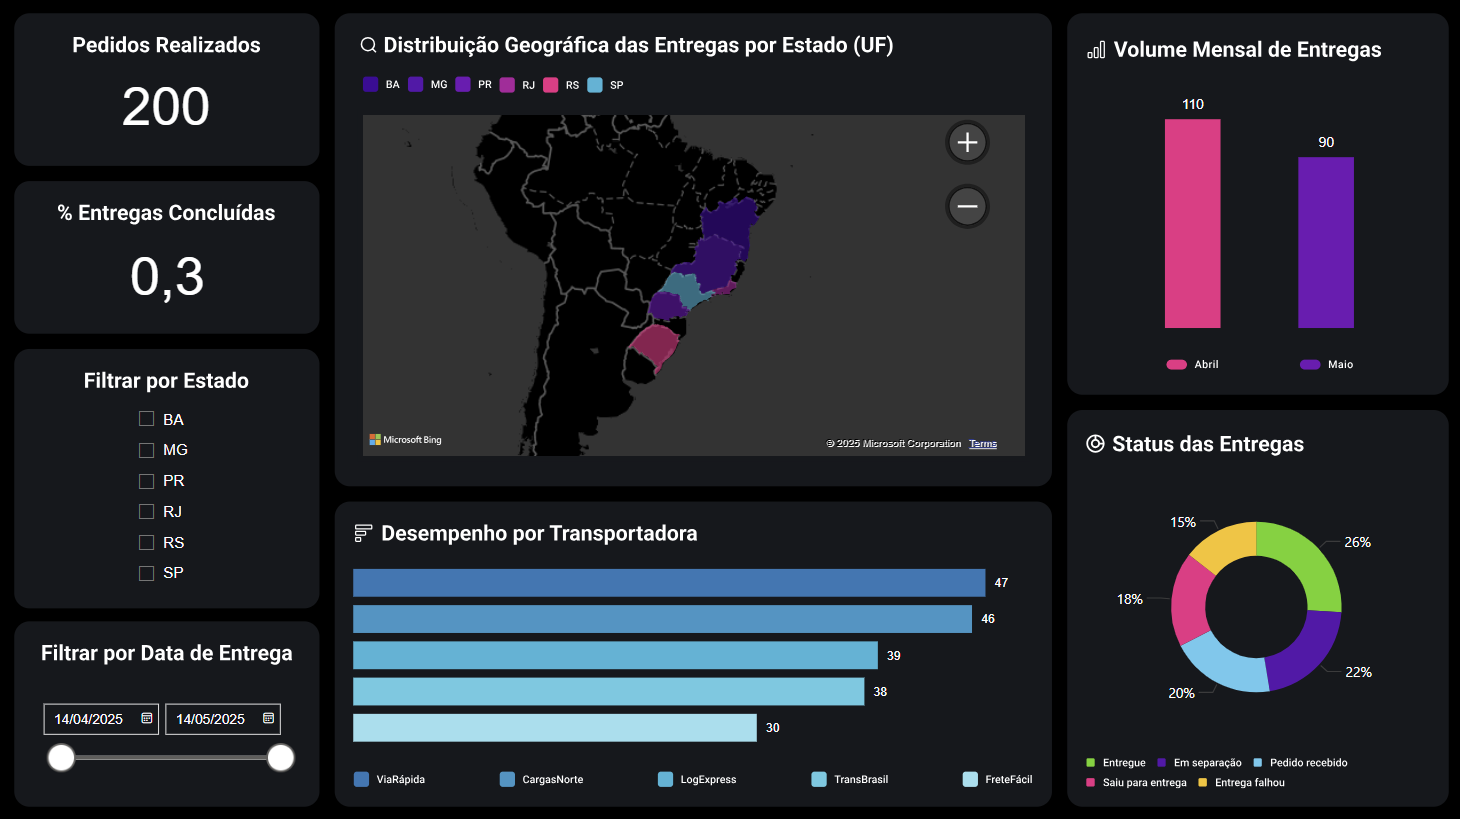

This screenshot's page, from the dashboard's own definition file:
{"tool":"powerbi","page":{"name":"Página 1","canvas":[1280,720],"ordinal":0},"visuals":[{"type":"filledMap","fields":{"Category":["trackmydelivery entregas.uf"],"Series":["trackmydelivery entregas.cidade"]},"box":[314,97,588,308],"z":0},{"type":"columnChart","fields":{"Category":["trackmydelivery entregas.data_entrega.Variation.Hierarquia de datas.Mês"],"Y":["Count(trackmydelivery entregas.id)"]},"box":[955.7,70.7,301.4,223.6],"z":1000},{"type":"donutChart","fields":{"Category":["trackmydelivery entregas.status"],"Y":["CountNonNull(trackmydelivery entregas.id)"]},"box":[934.2,428.3,330,208.3],"z":2000},{"type":"barChart","fields":{"Category":["trackmydelivery entregas.transportadora"],"Y":["Count(trackmydelivery entregas.id)"]},"box":[304.3,485.7,582.9,170],"z":3000},{"type":"card","title":"sdfsdf","fields":{"Values":["Count(trackmydelivery entregas.pedido_id)"]},"box":[75.7,65.7,142.1,52.1],"z":4000},{"type":"slicer","fields":{"Values":["trackmydelivery entregas.uf"]},"box":[109.3,350,61.4,171.4],"z":6000},{"type":"card","fields":{"Values":["trackmydelivery entregas.% Entregas Concluídas"]},"box":[26.4,209.3,241.4,62.1],"z":7000},{"type":"slicer","fields":{"Values":["trackmydelivery entregas.data_entrega"]},"box":[26.2,606.2,241.2,80],"z":7001}]}

Visuals, with their boxes in screenshot pixels (x1, y1, x2, y2), scaled from the page's 1280x720 canvas onto the 1460x819 screenshot:
filledMap - trackmydelivery entregas.uf x trackmydelivery entregas.cidade: 358 110 1029 461
columnChart - trackmydelivery entregas.data_entrega.Variation.Hierarquia de datas.Mês x Count(trackmydelivery entregas.id): 1090 80 1434 335
donutChart - trackmydelivery entregas.status x CountNonNull(trackmydelivery entregas.id): 1066 487 1442 724
barChart - trackmydelivery entregas.transportadora x Count(trackmydelivery entregas.id): 347 552 1012 746
"sdfsdf" card: 86 75 248 134
slicer - trackmydelivery entregas.uf: 125 398 195 593
card - trackmydelivery entregas.% Entregas Concluídas: 30 238 305 309
slicer - trackmydelivery entregas.data_entrega: 30 690 305 781
